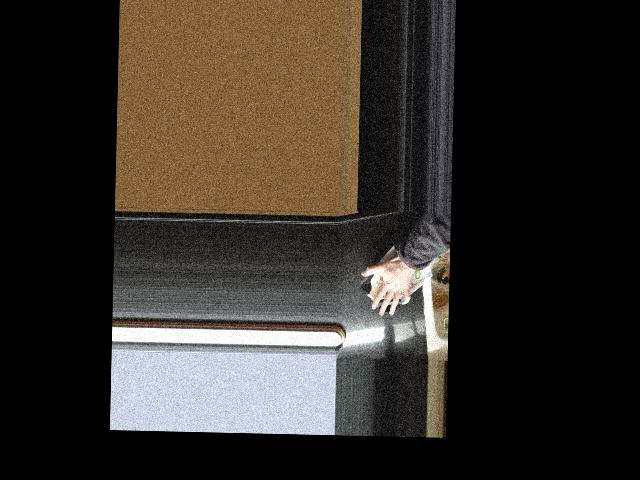cheese: (358, 239, 435, 316)
